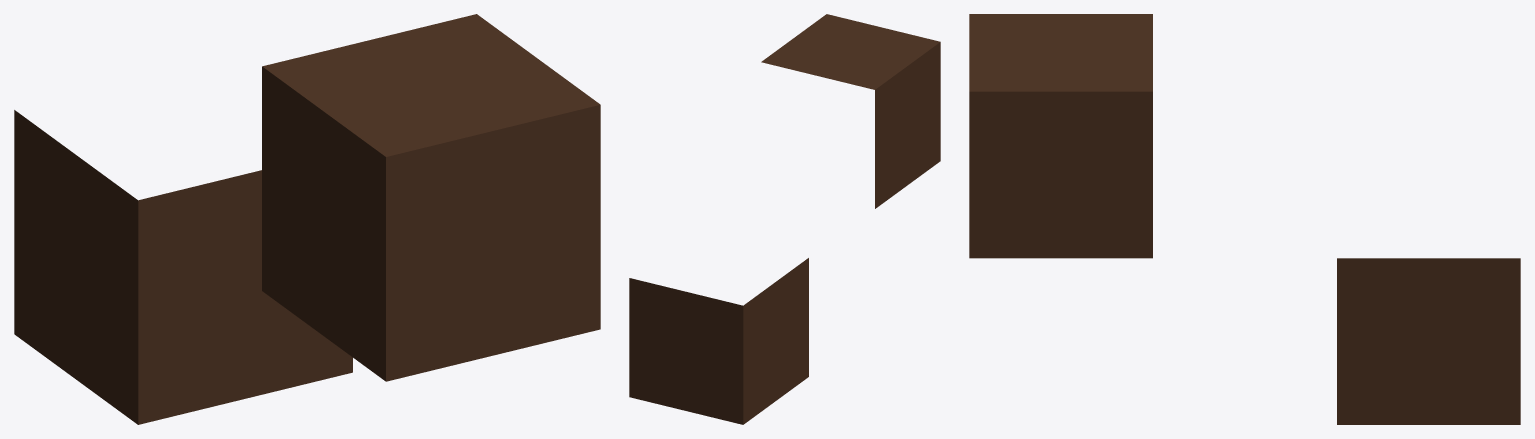
File: tree-cherry-1-pink1-4e3220.gltf
3 views of the same model, side by side, from view 1: azimuth 30°, elevation 25°; view 2: azimuth 150°, elevation 25°; view 3: azimuth 270°, elevation 25° (orthographic). The views are drawn at different scales.
Parts seen in each view (by area): view 1: tree-cherry-1-pink1-4e3220; view 2: tree-cherry-1-pink1-4e3220; view 3: tree-cherry-1-pink1-4e3220.
Boxes of the visible parts, <box> form: tree-cherry-1-pink1-4e3220: <box>14,14,600,424</box>; tree-cherry-1-pink1-4e3220: <box>629,14,940,424</box>; tree-cherry-1-pink1-4e3220: <box>969,14,1520,424</box>.
Size of the model in its own units: 1 by 2 by 3.
